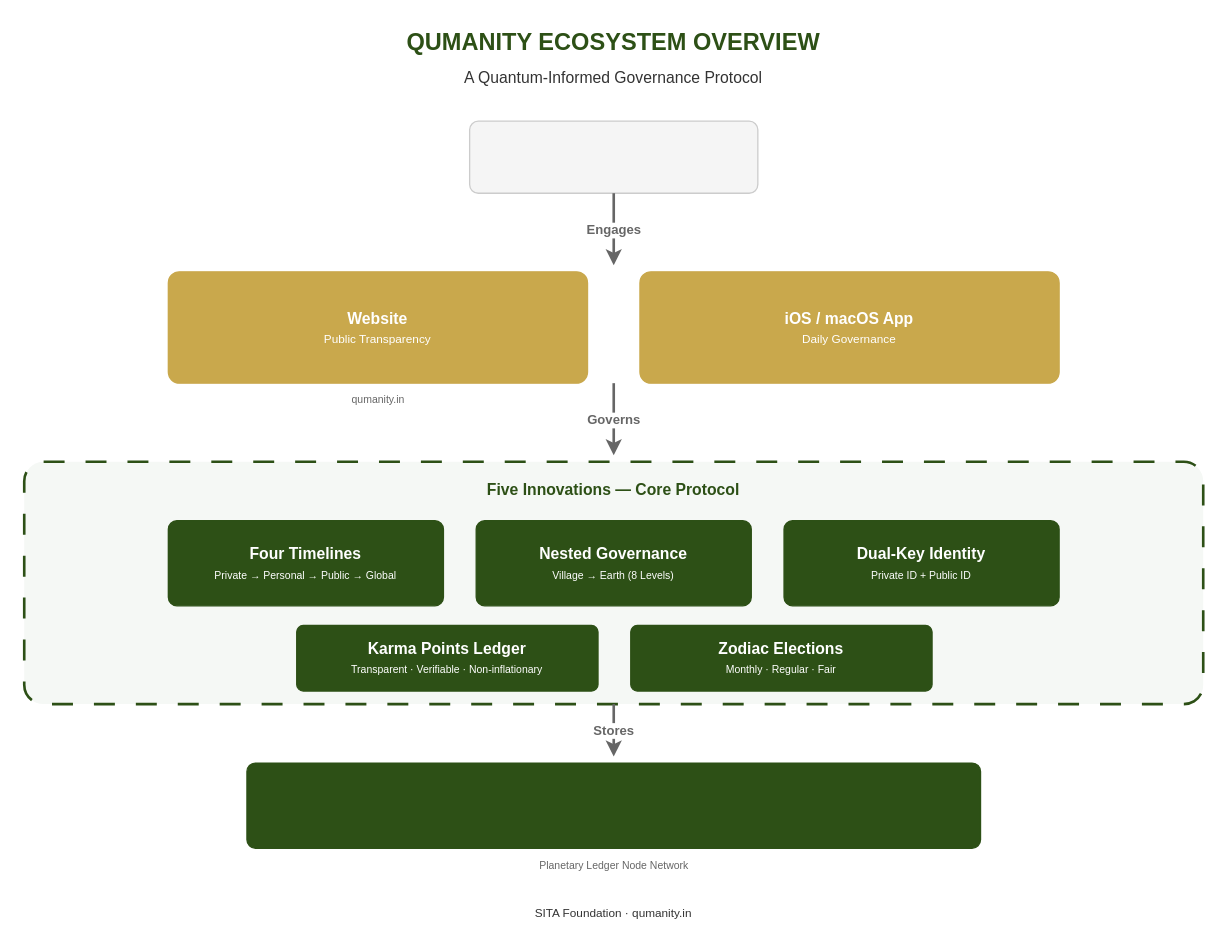
Some shapes in this 1226 by 948 pixel diagram are drawn without their labels. The centre of each missing label's shape, as x and y in pixels:
Citizens & Communities: point 613,156
PLNN Data Sovereignty · Offline-First · Nested Nodes: point 613,805
